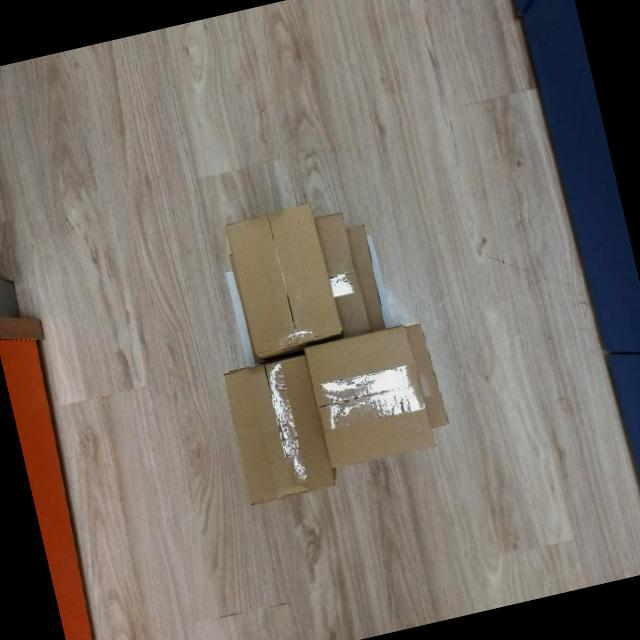box: (299, 319, 438, 472), (218, 196, 344, 361), (216, 350, 338, 512)
